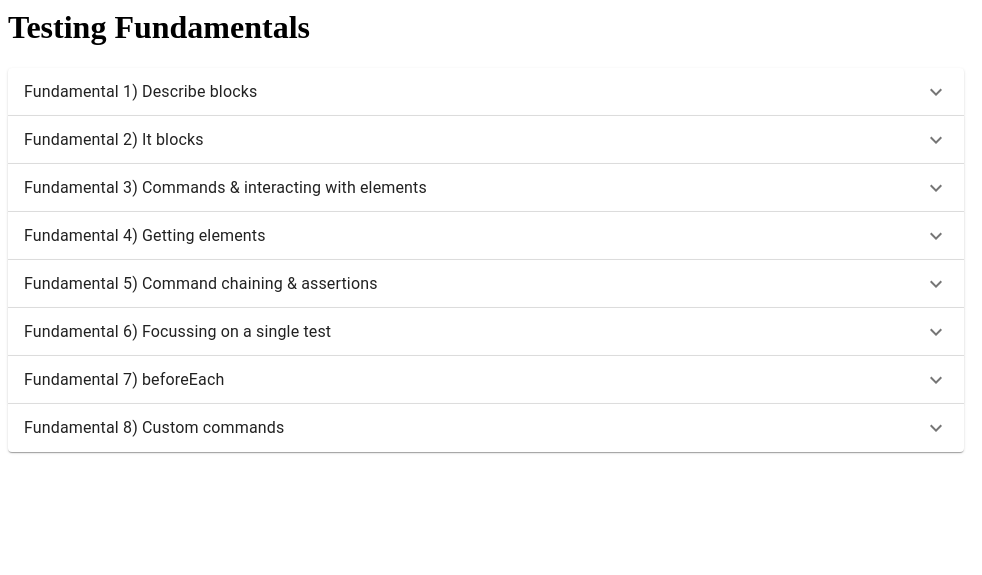
Scenario: Fundamentals page test › Accordion works correctly
Click the element with test id "accordion-item-1" at point(486, 92), box top-left (8, 68), bottom-right (964, 116)
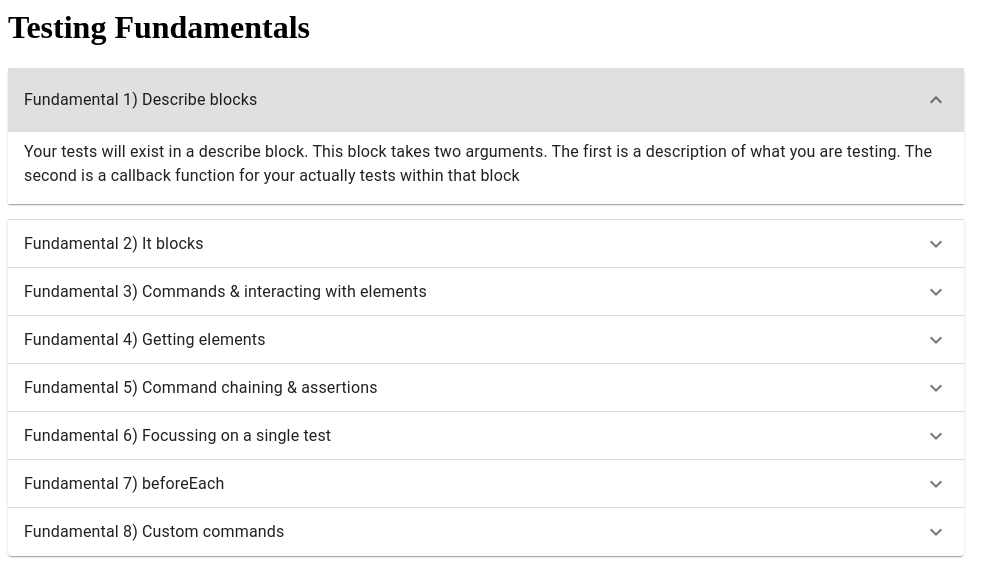
Expected: the text with test id "accordion-item-details-1" is shown, top-left (24, 140), bottom-right (948, 188)
